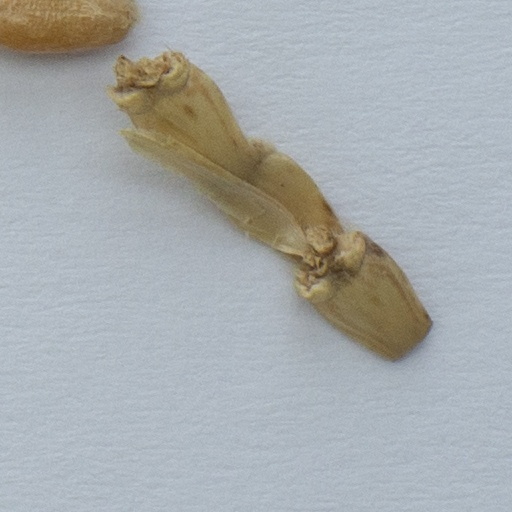Peel-poly: (112, 53, 434, 358)
